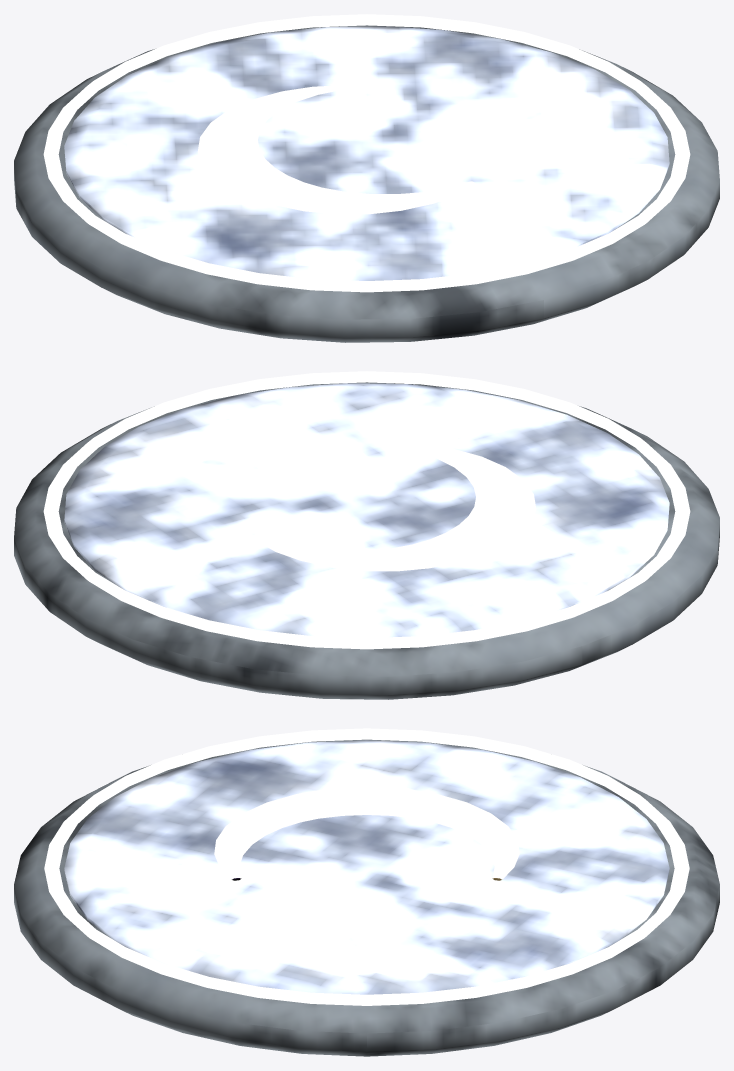
File: MirrorMoon.fbx
3 renders of one model, top to bottom at view 1: azimuth 30°, elevation 25°; view 2: azimuth 150°, elevation 25°; view 3: azimuth 270°, elevation 25°, orthographic.
Visible parts, largest first — view 1: MirrorMoon; view 2: MirrorMoon; view 3: MirrorMoon.
Part boxes in pixels (x1=…): MirrorMoon: x1=14, y1=14, x2=719, y2=342; MirrorMoon: x1=14, y1=371, x2=719, y2=699; MirrorMoon: x1=14, y1=728, x2=719, y2=1056.
Bounding box in the file's own units: 0.56 × 0.0901 × 0.56.
